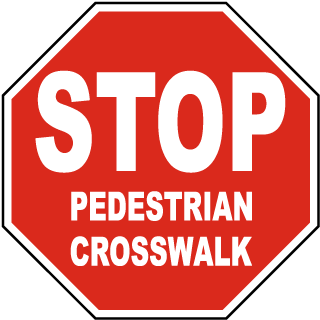stopsign: (2, 1, 320, 317)
